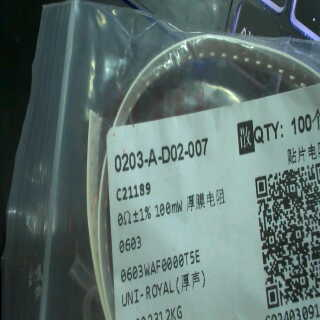0R: (115, 199, 184, 257)
